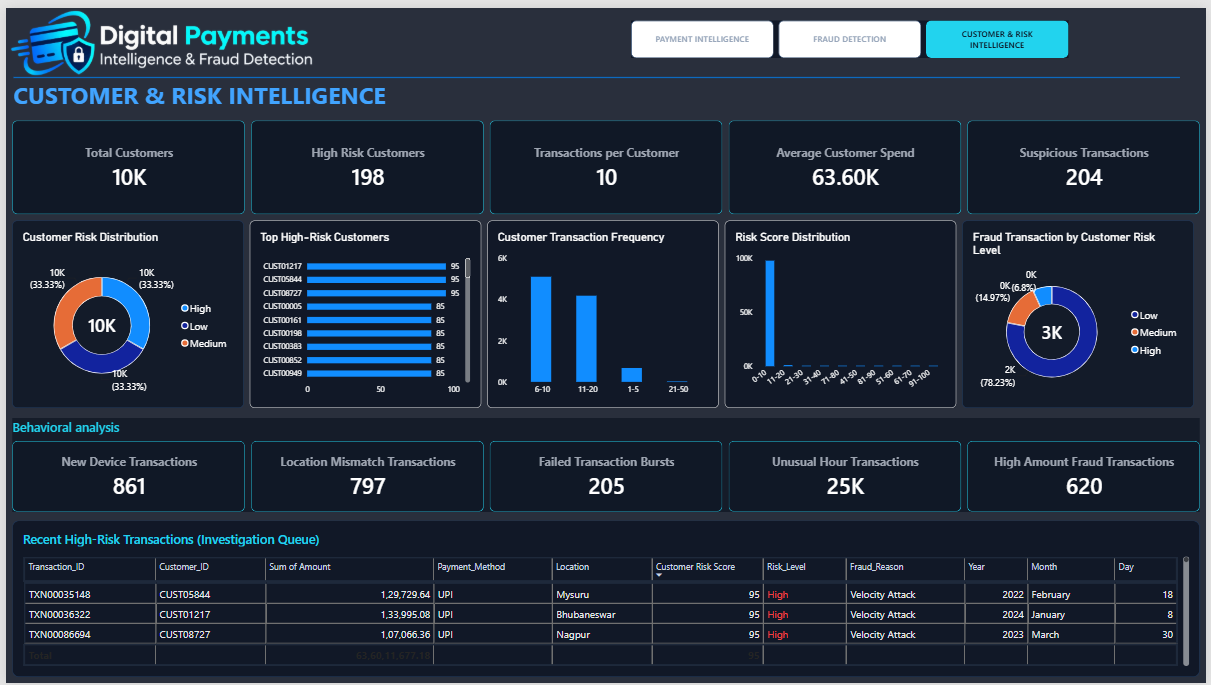

This screenshot's page, from the dashboard's own definition file:
{"tool":"powerbi","page":{"name":"CUSTOMER & RISK INTELLIGENCE","canvas":[1920,1080],"ordinal":2},"visuals":[{"type":"clusteredColumnChart","title":"Customer Transaction Frequency","fields":{"Category":["Frequency_Bucket.Frequency"],"Y":["Frequency_Bucket.Customers by Frequency"]},"box":[770,340,370,300],"z":0},{"type":"clusteredColumnChart","title":"Risk Score Distribution","fields":{"Y":["CountNonNull(transactions_100k.Transaction_ID)"],"Category":["transactions_100k.Risk Score Range"]},"box":[1150,340,370,300],"z":1000},{"type":"cardVisual","fields":{"Data":["customers.Total Customers","customers.High Risk Customers","customers.Transactions per Customer","customers.Average Customer Spend","customers.Suspicious Transactions"]},"box":[10,180,1900,150],"z":2000},{"type":"donutChart","title":"Customer Risk Distribution","fields":{"Y":["CountNonNull(customers.Customer_ID)"],"Category":["transactions_100k.Risk_Level"]},"box":[10,340,370,300],"z":3000},{"type":"barChart","title":"Top High-Risk Customers","fields":{"Y":["Top 10 High Risk Customers.Customer Risk Scoreee"],"Category":["customers.Customer_ID"]},"box":[390,340,370,300],"z":4000},{"type":"donutChart","title":"Fraud Transaction by Customer Risk Level","fields":{"Category":["transactions_100k.Risk_Level"],"Y":["transactions_100k.Total Fraud Transactions"]},"box":[1530,340,370,300],"z":5000},{"type":"cardVisual","title":"Behavioral analysis","fields":{"Data":["transactions_100k.New Device Transactions","transactions_100k.Location Mismatch Transactions","transactions_100k.Failed Transaction Bursts","transactions_100k.Unusual Hour Transactions","transactions_100k.High Amount Fraud Transactions"]},"box":[10,655,1900,150],"z":6000},{"type":"tableEx","title":"Recent High-Risk Transactions (Investigation Queue)","fields":{"Values":["transactions_100k.Transaction_ID","customers.Customer_ID","Sum(transactions_100k.Amount)","transactions_100k.Payment_Method","transactions_100k.Location","customers.Customer Risk Score","transactions_100k.Risk_Level","transactions_100k.Fraud_Reason","transactions_100k.Transaction_Timestamp.Variation.Date Hierarchy.Year","transactions_100k.Transaction_Timestamp.Variation.Date Hierarchy.Month","transactions_100k.Transaction_Timestamp.Variation.Date Hierarchy.Day"]},"box":[10,820,1900,250],"z":7000},{"type":"shape","box":[11.6,87,1866.3,46.4],"z":9000},{"type":"textbox","box":[11.4,114.4,680.8,57.2],"z":10000},{"type":"pageNavigator","box":[1000,20,700,60],"z":11000},{"type":"image","box":[0,0,503.5,110.6],"z":11001}]}

Visuals, with their boxes in screenshot pixels (x1, y1, x2, y2), scaled from the page's 1920x1080 canvas onto the 1211x685 screenshot:
"Customer Transaction Frequency" clusteredColumnChart: region(486, 216, 719, 406)
"Risk Score Distribution" clusteredColumnChart: region(725, 216, 959, 406)
cardVisual - customers.Total Customers x customers.High Risk Customers: region(6, 114, 1205, 209)
"Customer Risk Distribution" donutChart: region(6, 216, 240, 406)
"Top High-Risk Customers" barChart: region(246, 216, 479, 406)
"Fraud Transaction by Customer Risk Level" donutChart: region(965, 216, 1198, 406)
"Behavioral analysis" cardVisual: region(6, 415, 1205, 511)
"Recent High-Risk Transactions (Investigation Queue)" tableEx: region(6, 520, 1205, 679)
shape: region(7, 55, 1184, 85)
textbox: region(7, 73, 437, 109)
pageNavigator: region(631, 13, 1072, 51)
image: region(0, 0, 318, 70)
